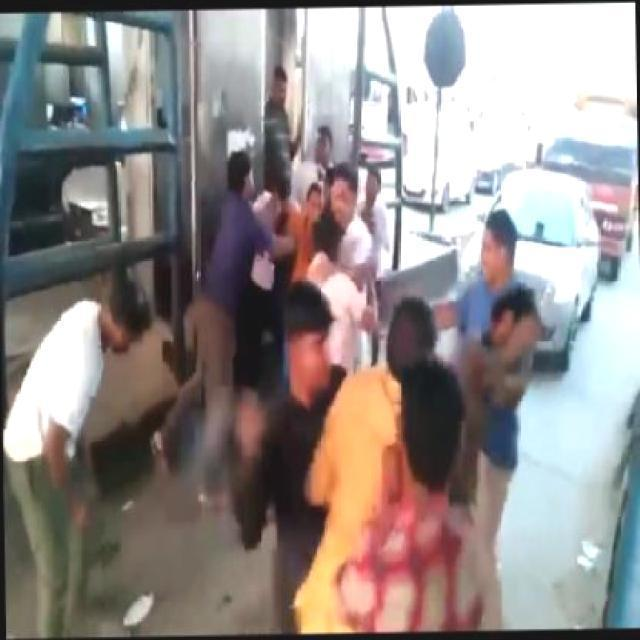fight: (232, 276, 445, 638)
